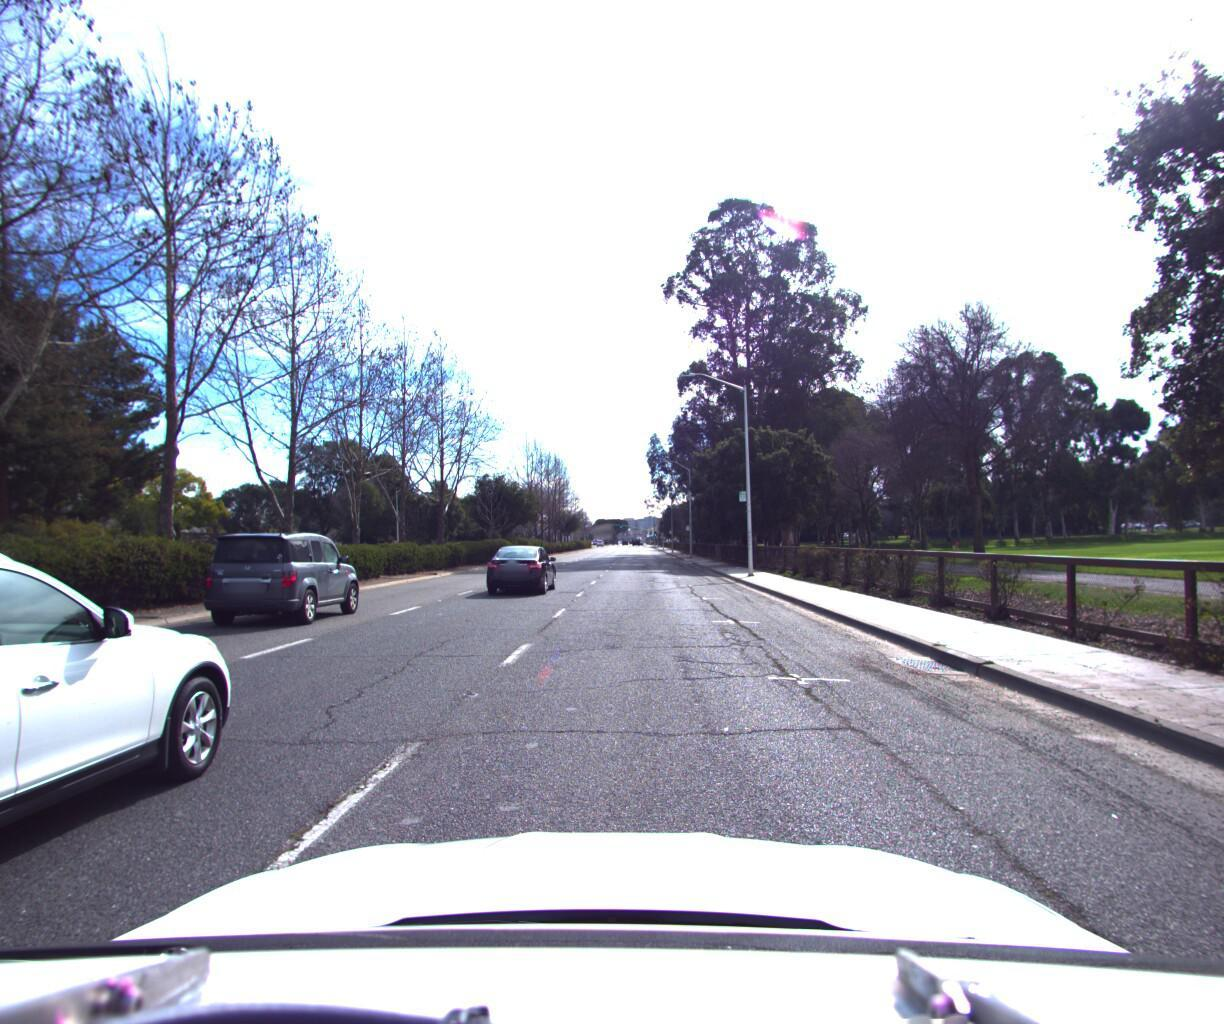car: (0, 506, 262, 1024), (206, 532, 366, 629), (479, 538, 557, 593)
